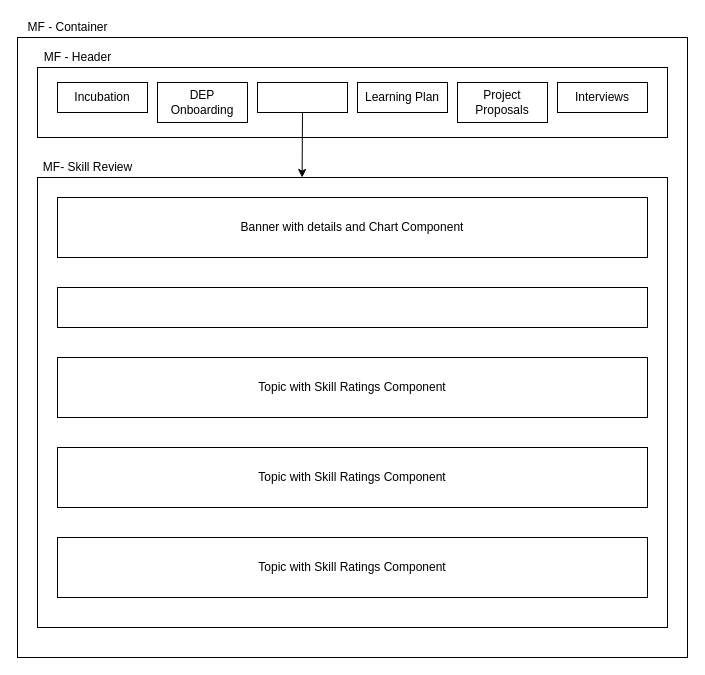
The diagram is 705 pixels wide and 675 high, and some of its shapes have lost their labels. The centre of each missing label's shape, as x and y in pixels:
"Search with Results list Component" goes at point (352, 307).
"Skill Review" goes at point (302, 97).
